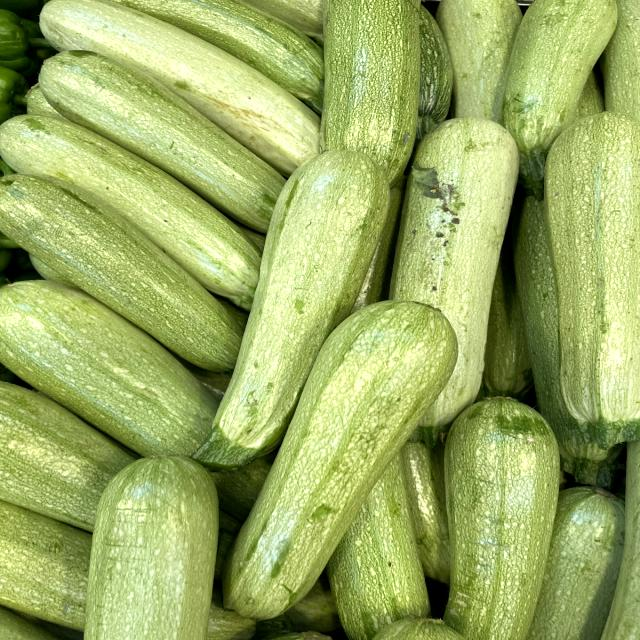zucchini: (212, 290, 468, 624), (184, 142, 412, 475)
